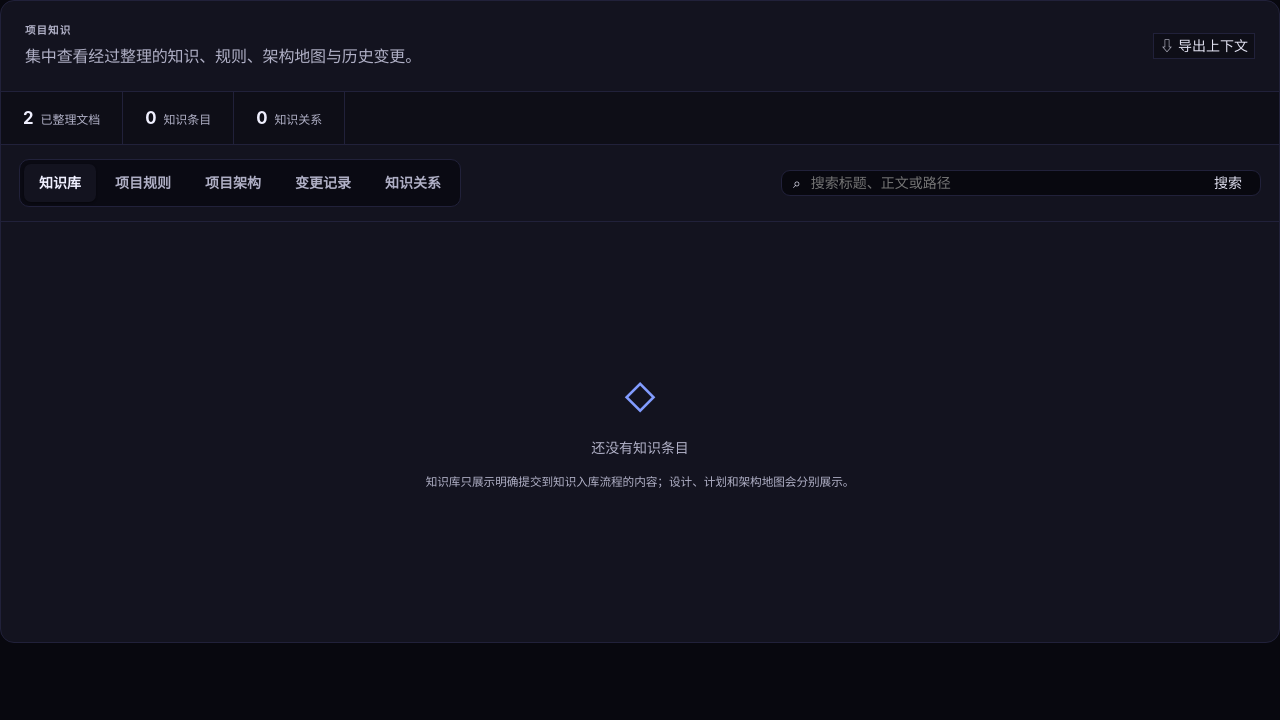
Test case: ProjectSemanticPanels › loads later change-history pages without hiding older records
Expected: the text "还没有知识条目" is shown, [591, 437, 689, 459]
Click the tab "变更记录" at (323, 183), box [280, 164, 366, 202]
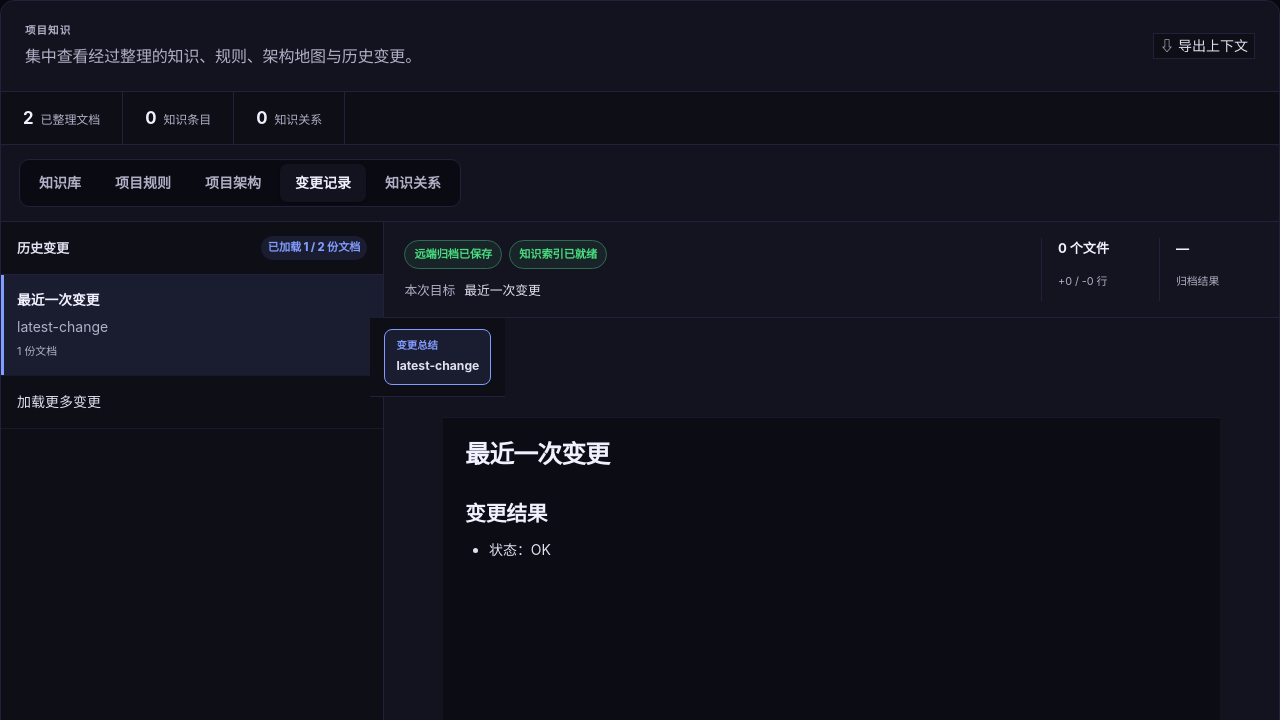
Expected: the text "更早的变更" is not shown
Expected: the heading "最近一次变更" is shown, [465, 439, 609, 469]
Expected: the text "已加载 1 / 2 份文档" is shown, [261, 236, 367, 260]
Click the button "加载更多变更" at (59, 401), box [1, 376, 383, 429]
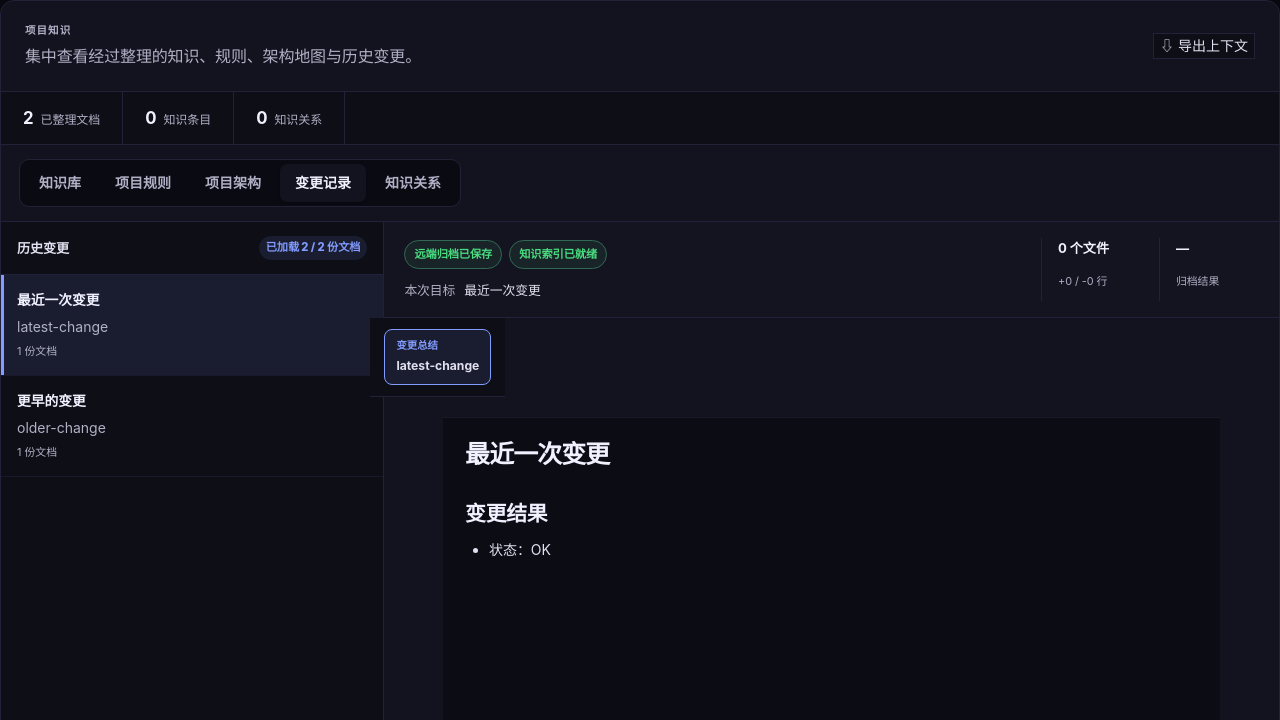
Expected: the text "更早的变更" is shown, [17, 393, 86, 409]
Expected: the text "已加载 2 / 2 份文档" is shown, [259, 236, 367, 260]
Expected: the button "加载更多变更" is gone
